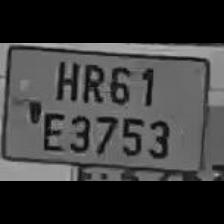1: (136, 60, 158, 106)
3: (65, 110, 91, 154), (145, 114, 171, 158)
5: (116, 111, 144, 156)
6: (104, 60, 134, 104)
7: (92, 111, 116, 156)
E: (40, 108, 64, 154)
H: (49, 53, 79, 103)
R: (78, 56, 104, 104)
